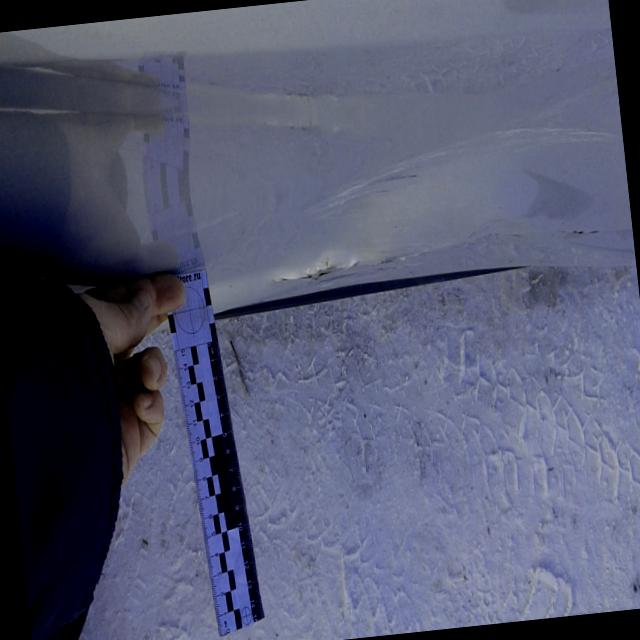Cabossage: (432, 156, 569, 249)
Dechirure: (273, 246, 408, 286), (559, 220, 605, 244)
Rayure: (0, 6, 422, 186), (313, 117, 609, 212)
